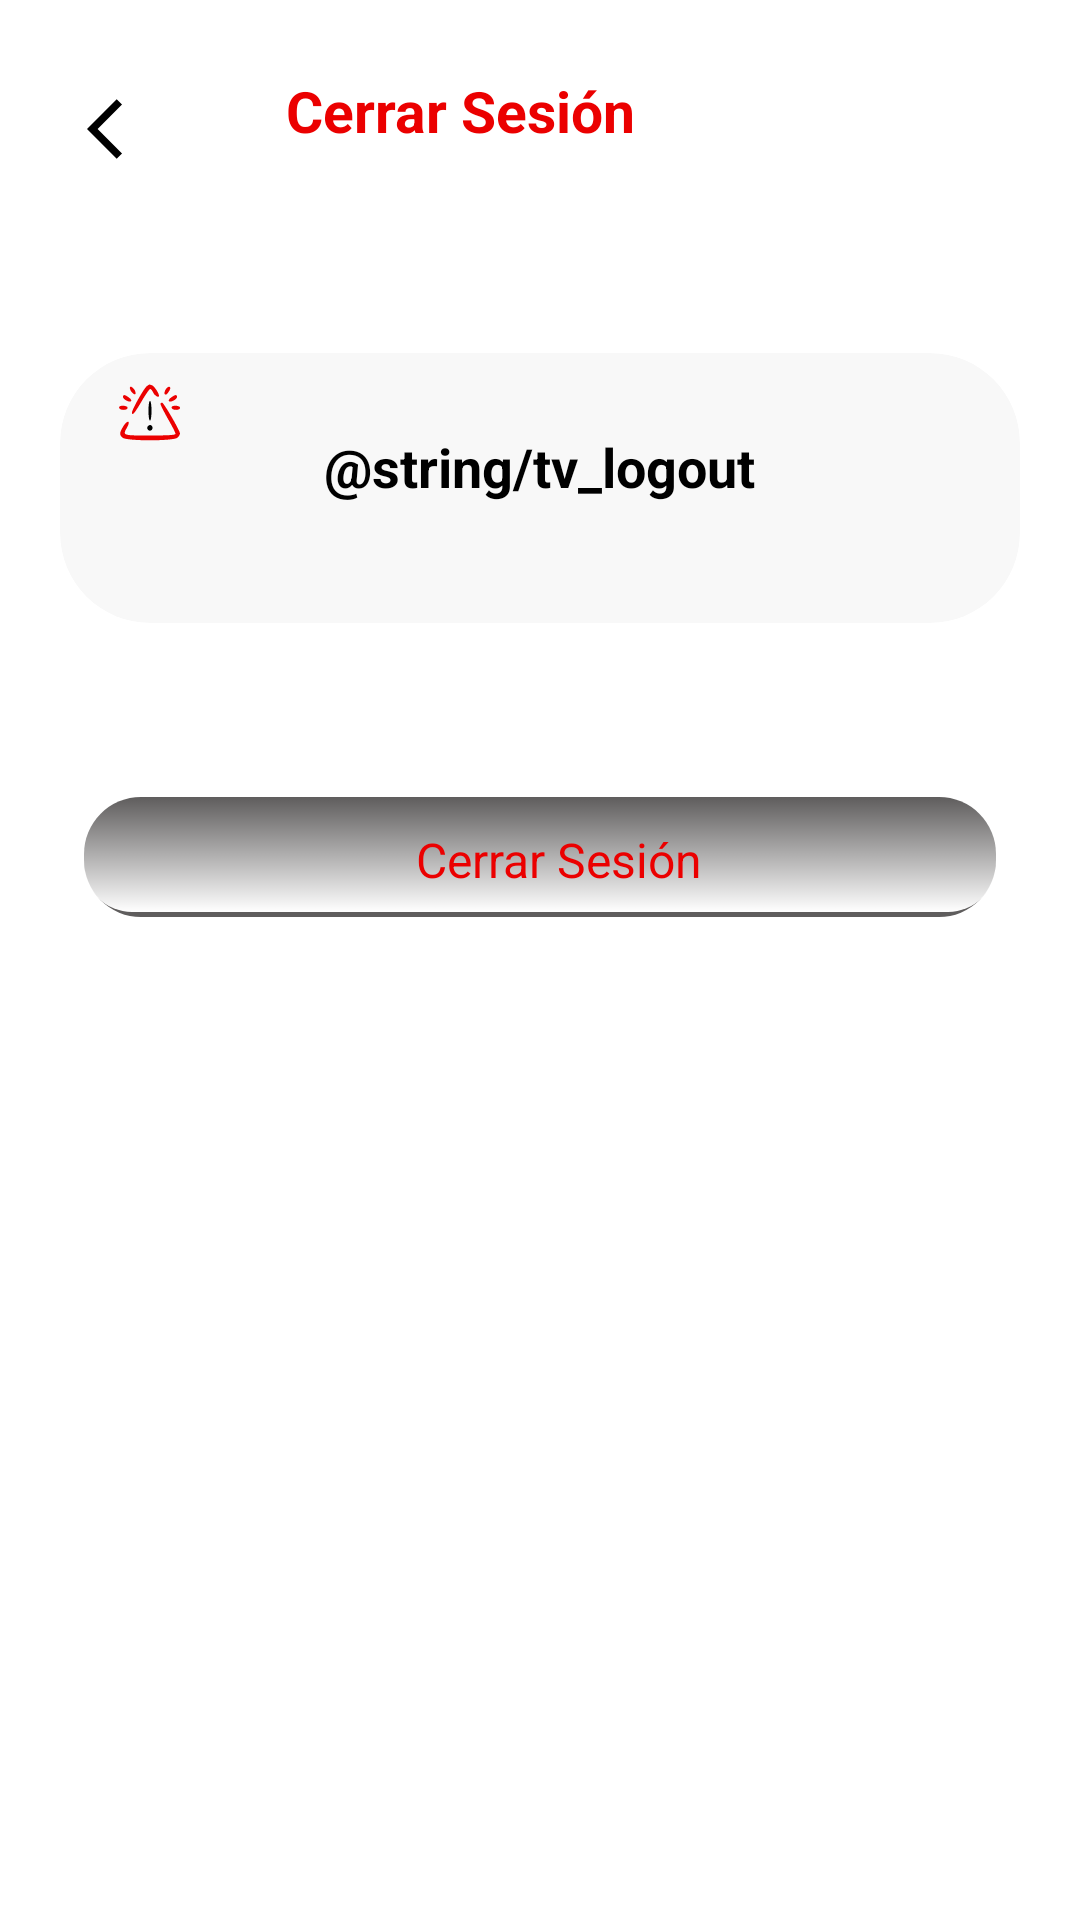

Where to tap for icons on this 1080 x 1920 app screen, as (x=x, y=y):
back: (x=104, y=129)
danger: (x=149, y=412)
